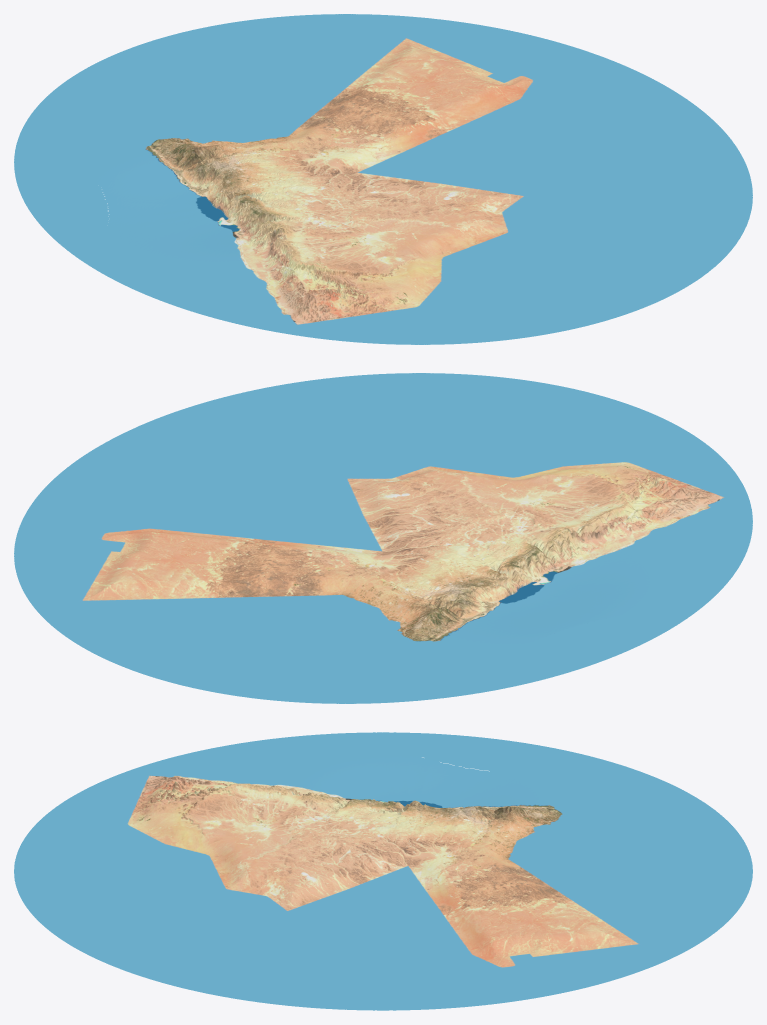
File: JOR-previa-terrain.glb
3 views of the same model, one above another, from view 1: azimuth 30°, elevation 25°; view 2: azimuth 150°, elevation 25°; view 3: azimuth 270°, elevation 25° (orthographic). The views are drawn at different scales.
Visible parts, largest first — view 1: Jordânia; view 2: Jordânia; view 3: Jordânia.
Boxes of the visible parts, <box> form: Jordânia: <box>14,14,752,344</box>; Jordânia: <box>14,373,752,703</box>; Jordânia: <box>14,732,752,1010</box>.
Bounding box in the file's own units: 2.27 × 0.0735 × 2.55.
Materials: 1 (1 with a texture image).
